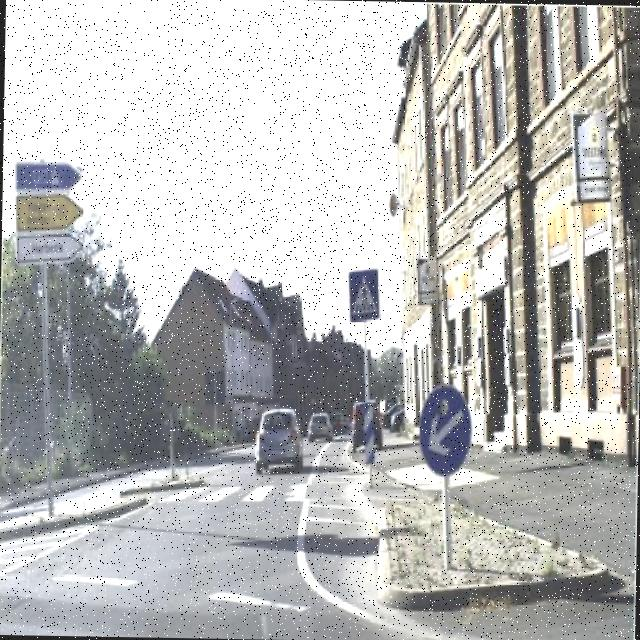Przejscie dla pieszych: (346, 270, 378, 322)
